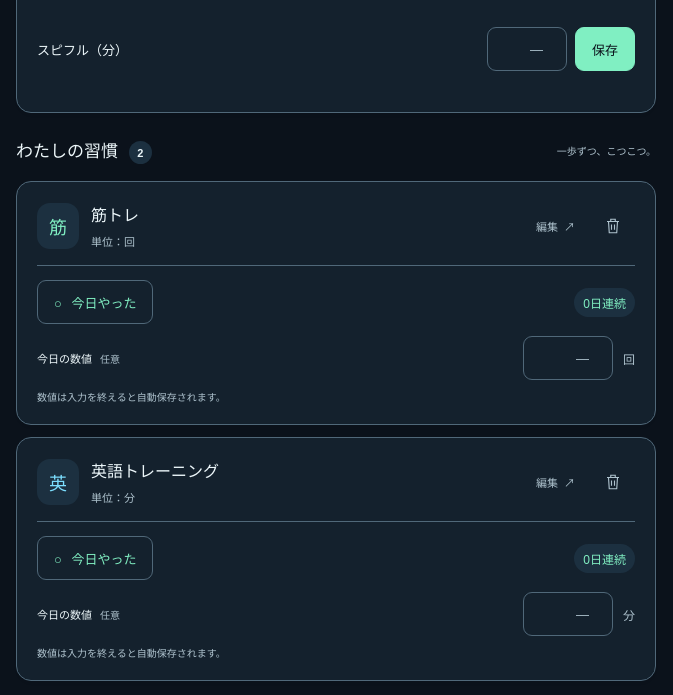
Test case: daily check-in › leaves blank values unrecorded and rejects negative values
(page scrolled)
Expected: the heading "筋トレ" is shown, [91, 208, 139, 224]
Click the 1st number field with test id "checkin-value-input". click: (568, 358)
box: [523, 336, 613, 380]
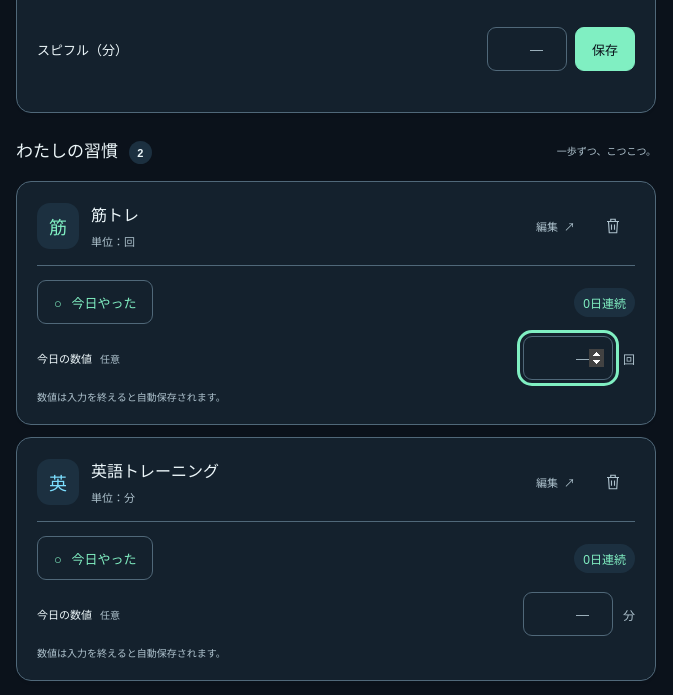
Press Tab
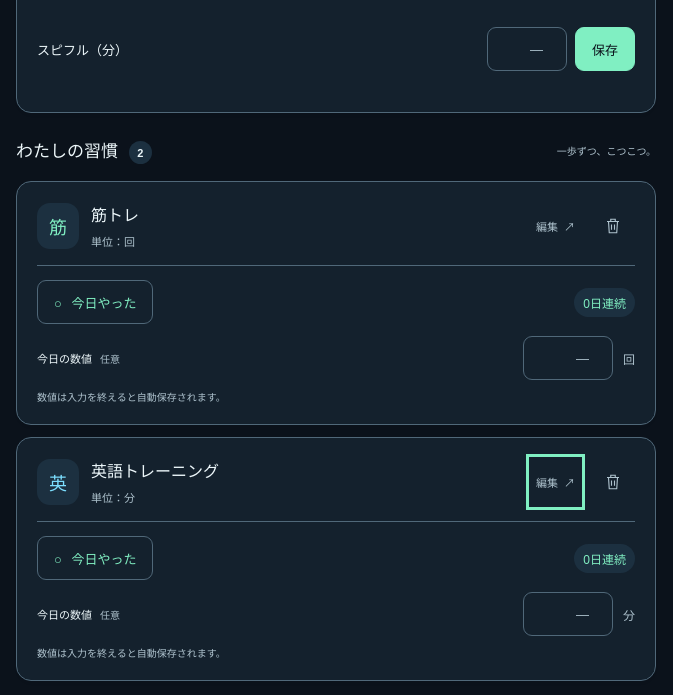
Type "-1" into the 1st number field with test id "checkin-value-input". click: (568, 358)
box: [523, 336, 613, 380]
Then press Enter
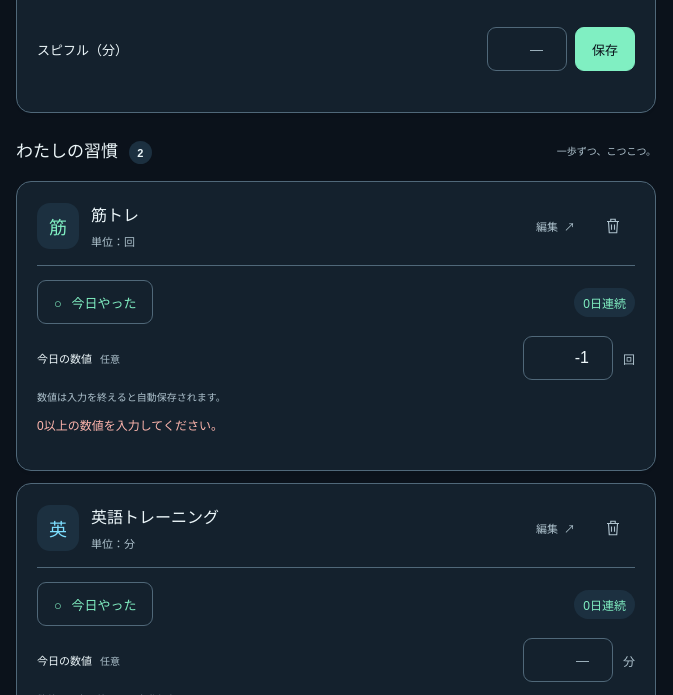
Expected: the message "0以上の数値を入力してください。" is shown, [37, 420, 223, 434]
